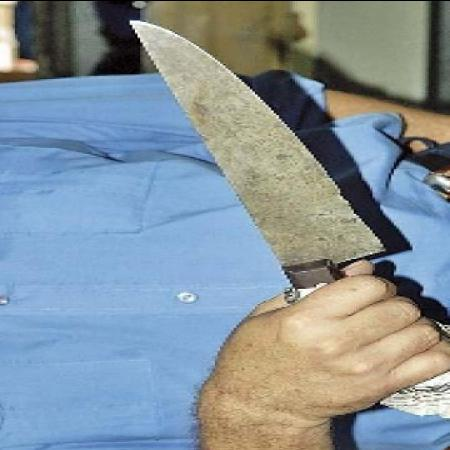long weapon: (122, 12, 422, 353)
